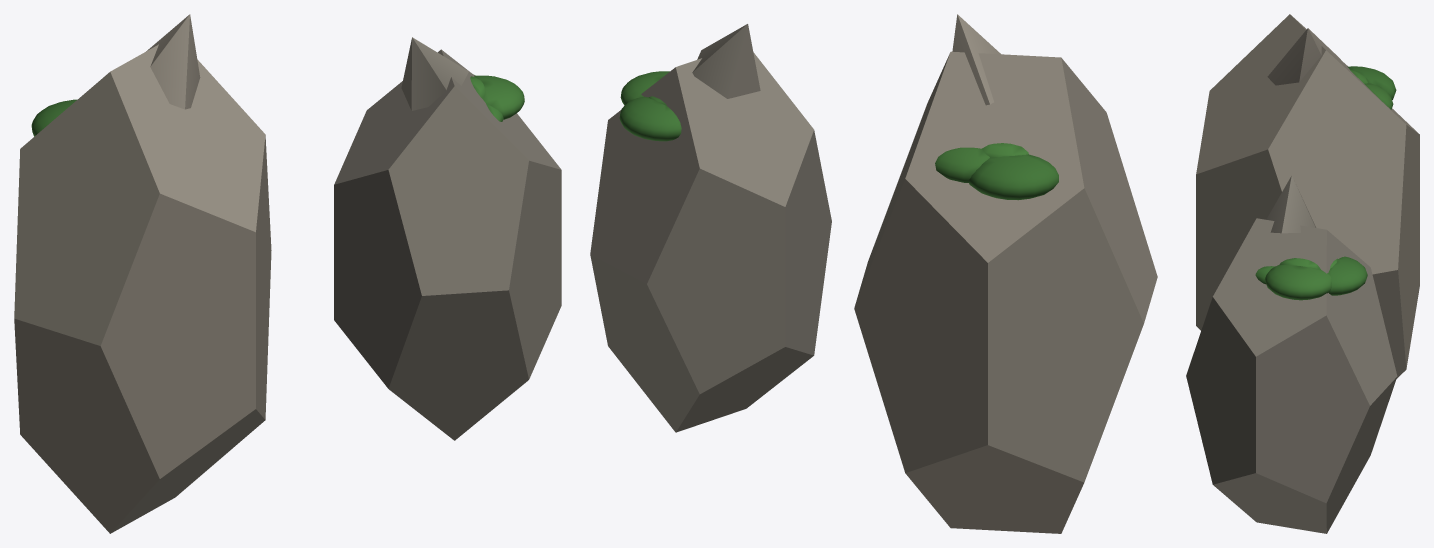
The model's file is lm-s2-halong.glb.
The picture shows the model from 3 angles, left to right: view 1: azimuth 30°, elevation 25°; view 2: azimuth 150°, elevation 25°; view 3: azimuth 270°, elevation 25°; orthographic projection. The views are drawn at different scales.
Size of the model in its own units: 6.33 by 5.7 by 2.88.
